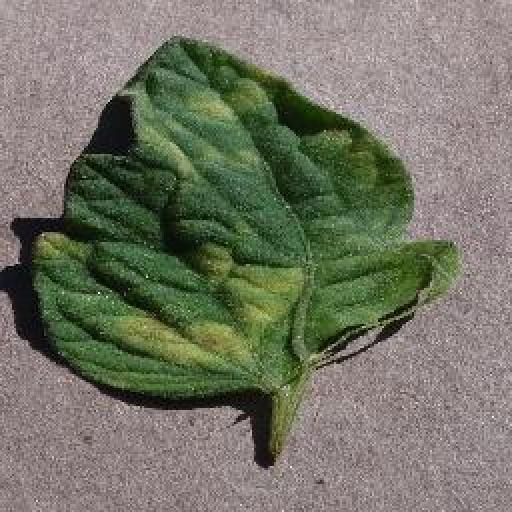disease_tomato: (34, 33, 457, 403)
